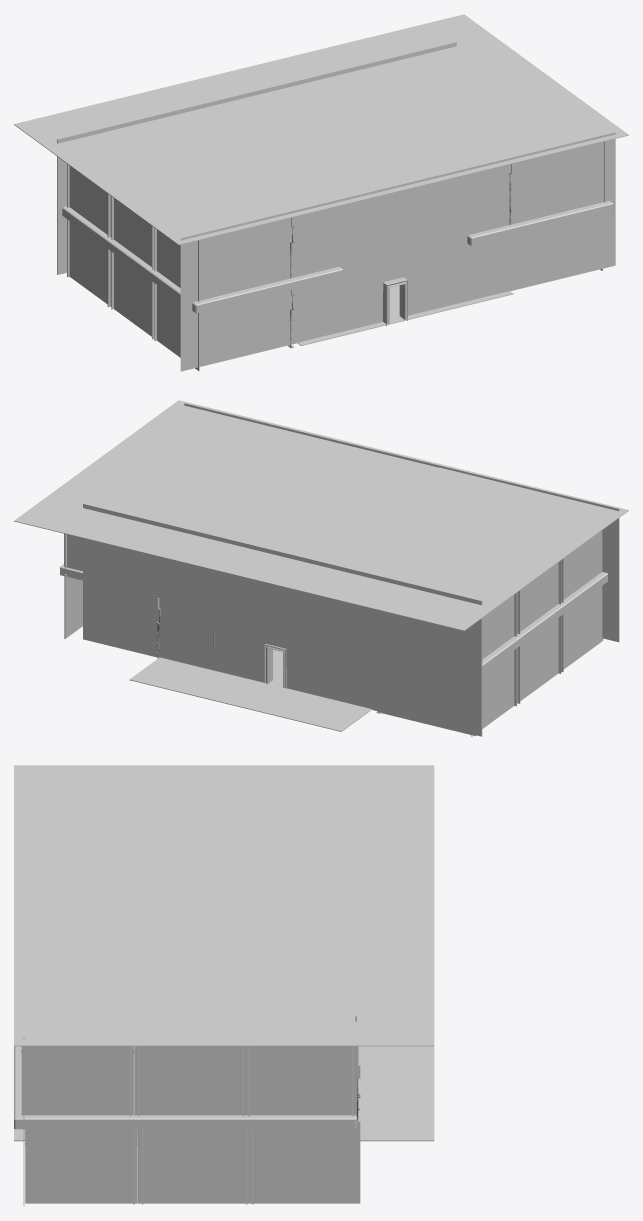
The model's file is New Basement.fbx.
The picture shows the model from 3 angles, top to bottom: view 1: azimuth 30°, elevation 25°; view 2: azimuth 150°, elevation 25°; view 3: azimuth 270°, elevation 25°; orthographic projection. The views are drawn at different scales.
Visible parts, largest first — view 1: Plane.015, Plane.009, Plane.016, Cube, Plane.073, Plane.066, Plane.053, Plane.046, Plane.060, Plane.014, Plane.040, Cube.017; view 2: Plane.015, Cube, Plane.014, Plane.009, Plane.060, Plane.066, Plane.016, Plane.073, Plane.046, Plane.040, Plane.053, Plane.080 (+2 smaller); view 3: Plane.015, Plane.086, Plane.093, Plane.080, Plane.021, Plane.033, Plane.026, Plane.014, Plane.016, Plane.009.
Part boxes in pixels (<box>): Plane.015: <box>14,14,628,245</box>; Plane.009: <box>180,132,615,371</box>; Plane.016: <box>62,200,613,313</box>; Cube: <box>57,42,456,274</box>; Plane.073: <box>69,221,111,306</box>; Plane.066: <box>114,253,151,336</box>; Plane.053: <box>69,166,111,237</box>; Plane.046: <box>114,198,151,266</box>; Plane.060: <box>157,285,199,371</box>; Plane.014: <box>297,285,513,345</box>; Plane.040: <box>157,230,199,301</box>; Cube.017: <box>383,277,407,325</box>; Plane.015: <box>14,400,628,630</box>; Cube: <box>83,503,482,736</box>; Plane.014: <box>129,649,371,731</box>; Plane.009: <box>184,403,619,642</box>; Plane.060: <box>563,586,603,669</box>; Plane.066: <box>517,618,558,703</box>; Plane.016: <box>60,564,607,672</box>; Plane.073: <box>471,650,514,736</box>; Plane.046: <box>517,562,558,633</box>; Plane.040: <box>563,530,602,599</box>; Plane.053: <box>482,595,514,659</box>; Plane.080: <box>64,574,82,638</box>; Plane.015: <box>14,765,434,1046</box>; Plane.086: <box>138,1129,250,1203</box>; Plane.093: <box>25,1129,137,1203</box>; Plane.080: <box>250,1121,360,1203</box>; Plane.021: <box>134,1046,246,1115</box>; Plane.033: <box>21,1046,133,1115</box>; Plane.026: <box>244,1046,356,1115</box>; Plane.014: <box>14,1046,434,1141</box>; Plane.016: <box>14,1046,356,1129</box>; Plane.009: <box>23,805,24,1206</box>.
Size of the model in its own units: 2355 by 692 by 2183.
